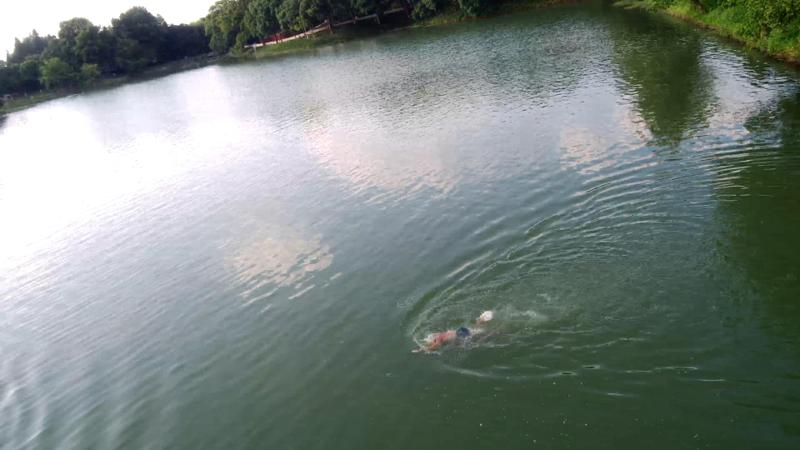swimmers: (425, 317, 486, 351)
